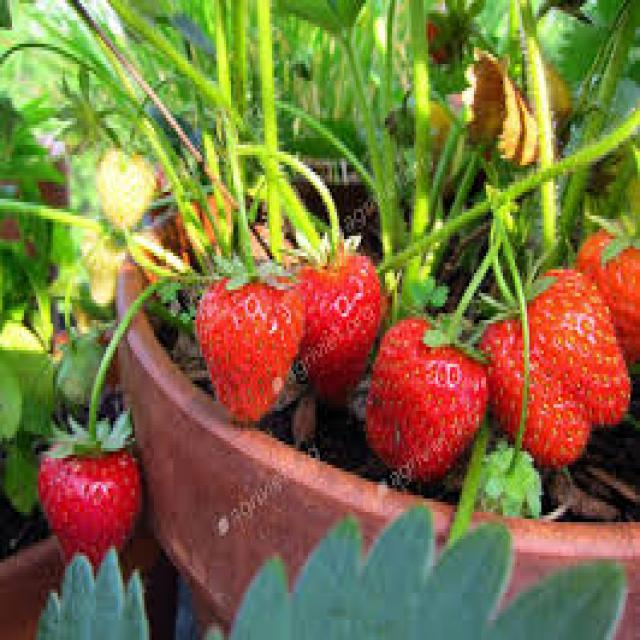Fruta sana: (474, 266, 630, 459), (358, 310, 485, 477), (292, 232, 380, 417), (38, 432, 143, 584), (198, 268, 296, 426), (575, 222, 640, 364)
